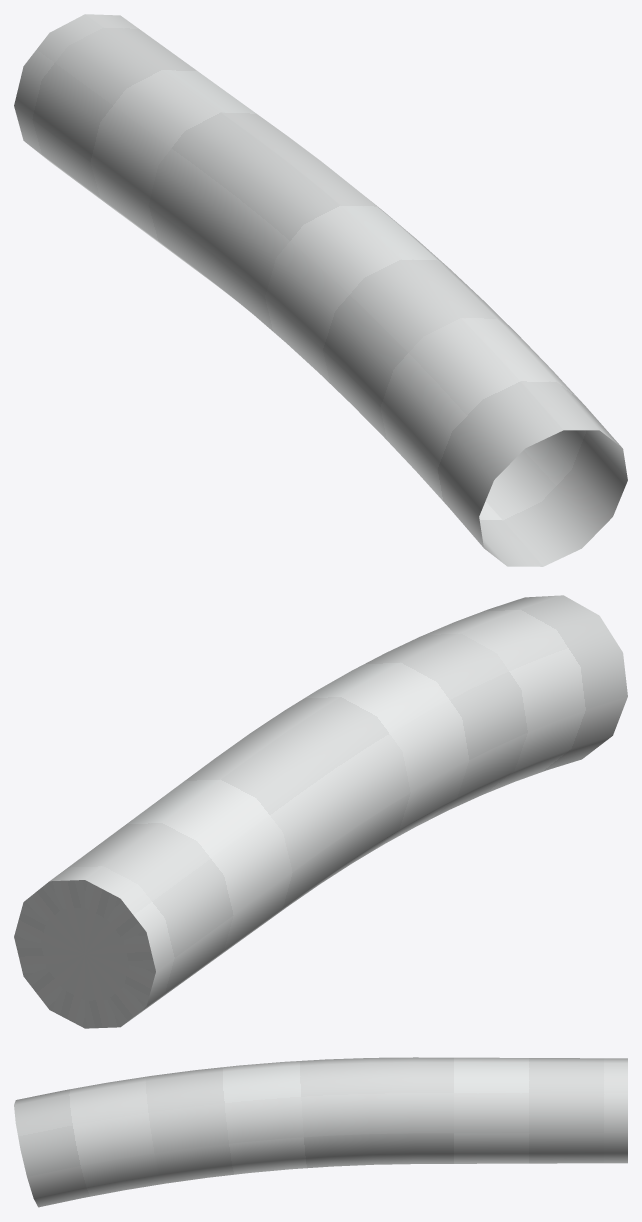
The model's file is luminairearm_caltrans15ftstraightdouble_c7.obj.
3 renders of one model, top to bottom at view 1: azimuth 30°, elevation 25°; view 2: azimuth 150°, elevation 25°; view 3: azimuth 270°, elevation 25°, orthographic. The views are drawn at different scales.
Visible parts, largest first — view 1: luminairearm_caltrans15ftstraightdouble_c7; view 2: luminairearm_caltrans15ftstraightdouble_c7; view 3: luminairearm_caltrans15ftstraightdouble_c7.
Part boxes in pixels (left/top/right/bottom): luminairearm_caltrans15ftstraightdouble_c7: left=14, top=14, right=627, bottom=566; luminairearm_caltrans15ftstraightdouble_c7: left=14, top=595, right=627, bottom=1028; luminairearm_caltrans15ftstraightdouble_c7: left=14, top=1057, right=627, bottom=1207.
Bounding box in the file's own units: 0.1833 × 0.257 × 1.02.
